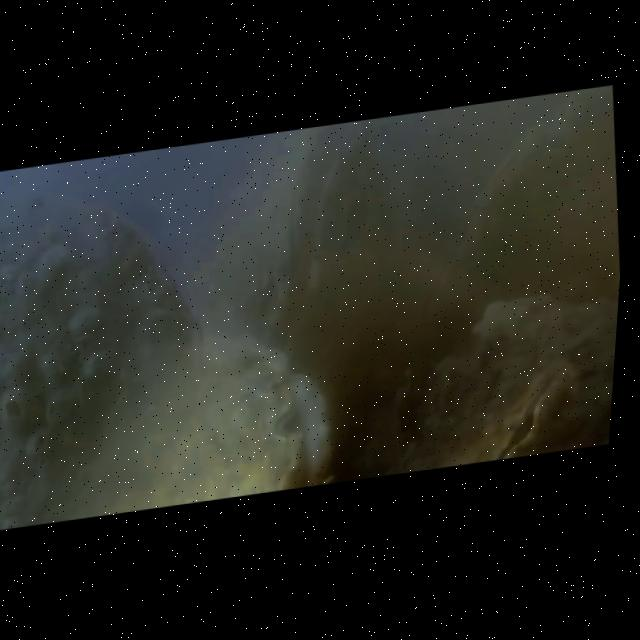Oyster-Closed: (78, 333, 304, 518), (472, 357, 573, 460)
Oyster-Indeterminate: (0, 195, 202, 529), (401, 292, 619, 472)
